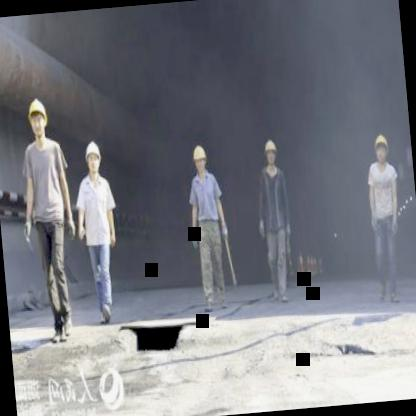helmet: (24, 93, 49, 142), (82, 138, 104, 178), (371, 131, 391, 169), (262, 136, 280, 172), (189, 142, 208, 175)
